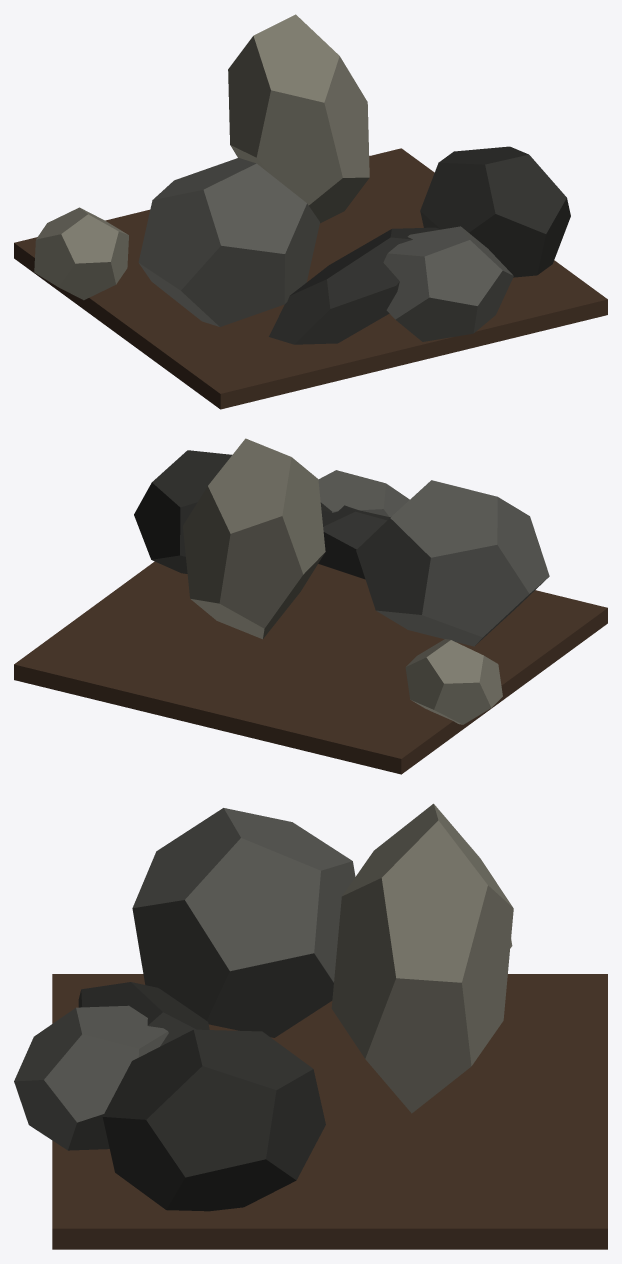
Rendered from sk_rubble_heap.glb.
3 renders of one model, top to bottom at view 1: azimuth 30°, elevation 25°; view 2: azimuth 150°, elevation 25°; view 3: azimuth 270°, elevation 25°, orthographic. The views are drawn at different scales.
Parts seen in each view (by area): view 1: stone; view 2: stone; view 3: stone.
Part boxes in pixels (left/top/right/bottom): stone: left=14, top=14, right=607, bottom=409; stone: left=14, top=438, right=607, bottom=774; stone: left=14, top=803, right=607, bottom=1249.
Size of the model in its own units: 0.5835 by 0.3035 by 0.513.
